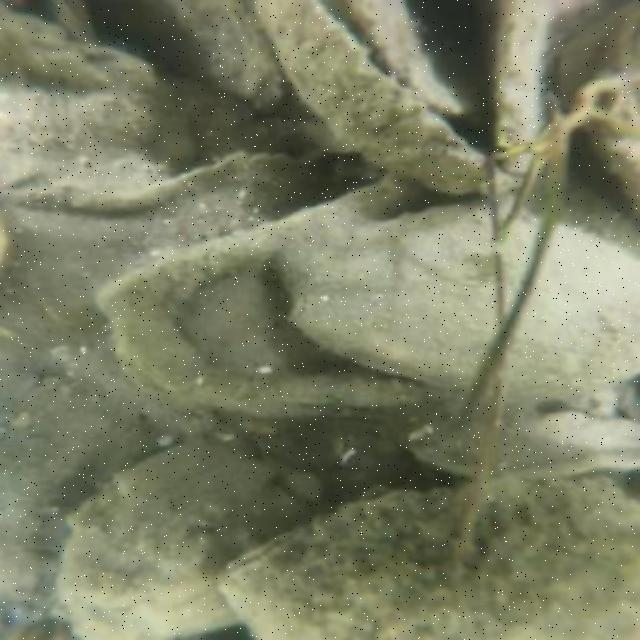Oyster-Closed: (89, 166, 483, 411), (284, 189, 638, 398), (222, 472, 638, 636), (64, 440, 310, 638), (8, 13, 171, 205), (340, 1, 481, 124), (139, 1, 284, 108), (539, 403, 638, 449)
Oyster-Open: (260, 0, 548, 196)
